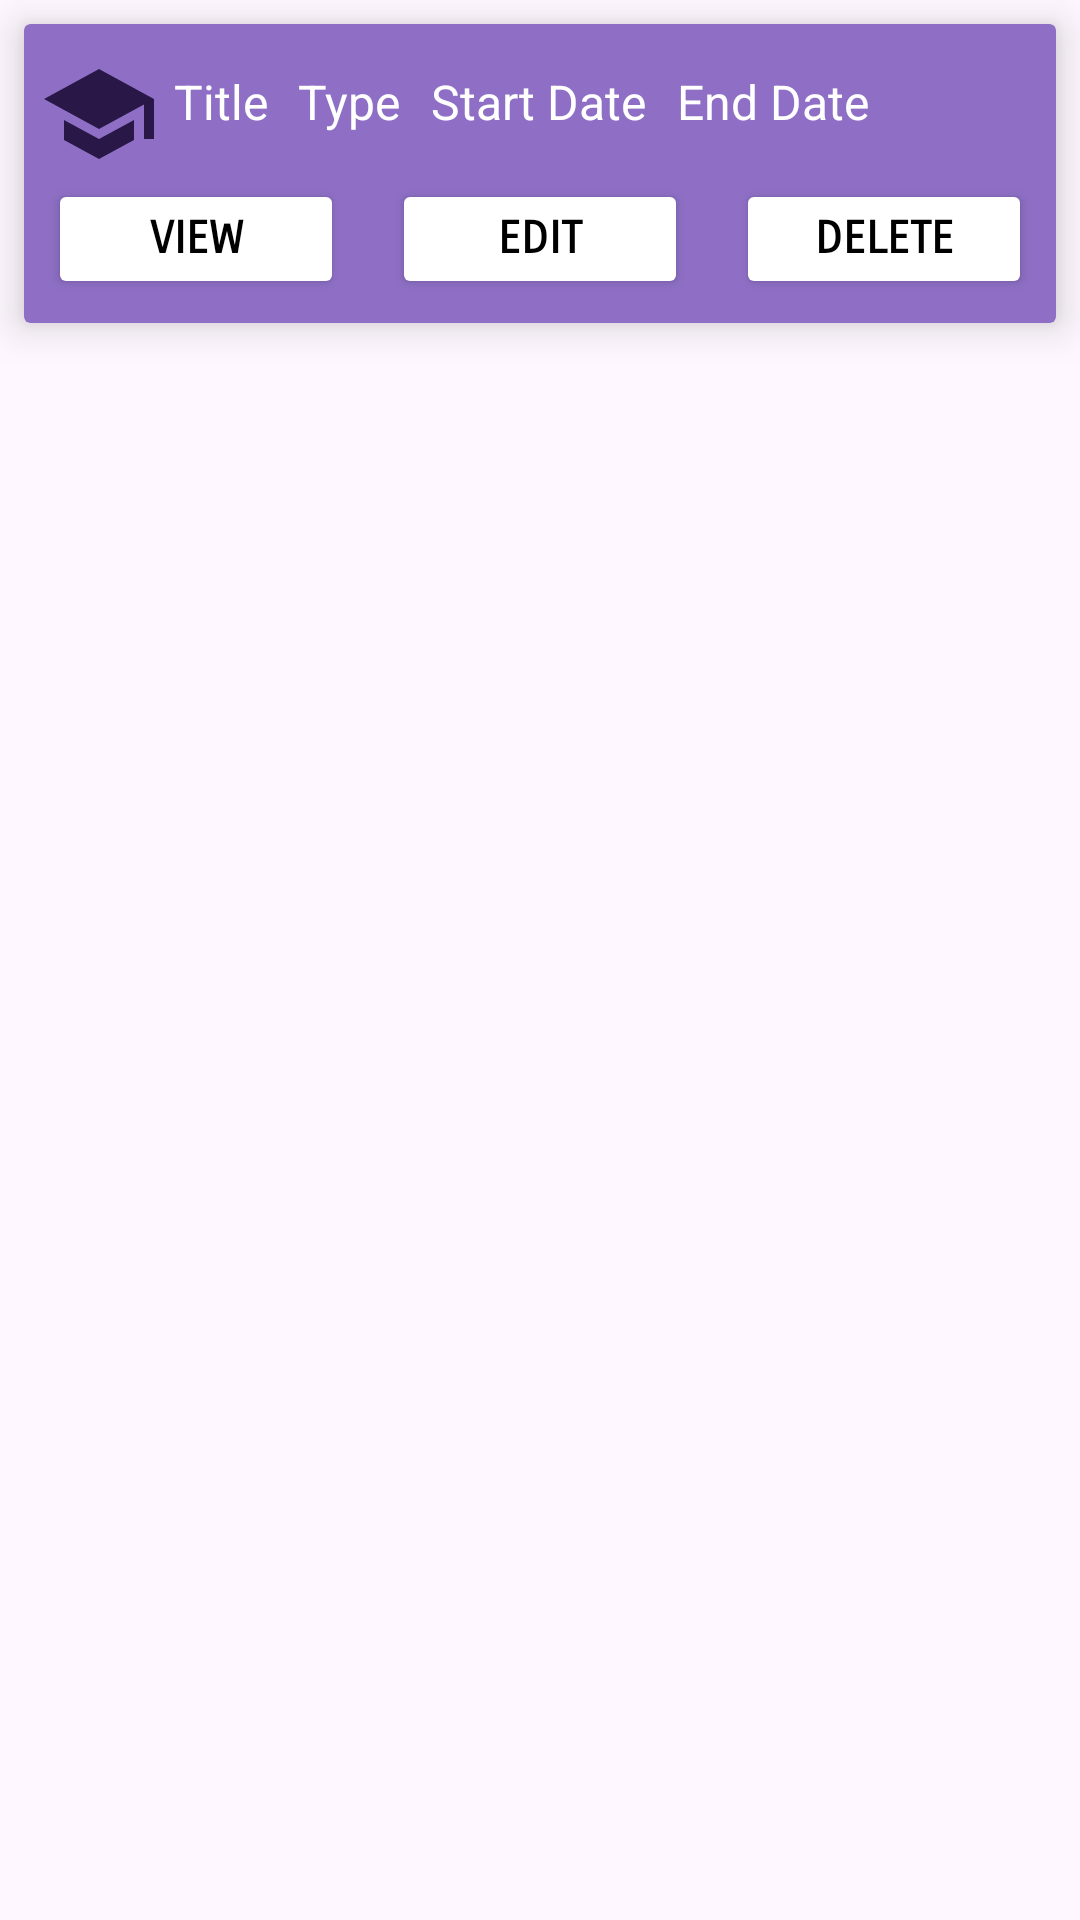

Screen size 1080w x 1920h. Icon name, then its center in pixels as point (x, y):
school: point (99, 114)
